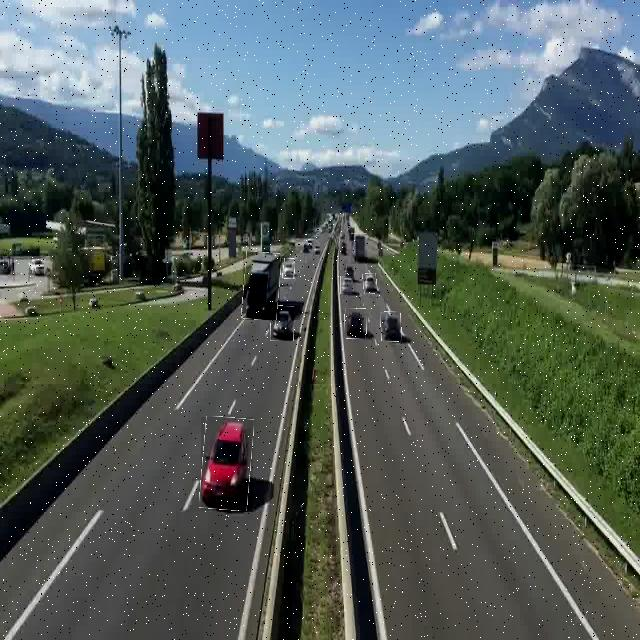Car: (201, 417, 253, 511), (271, 306, 294, 341), (345, 308, 367, 339), (381, 312, 402, 342), (362, 274, 377, 294), (282, 258, 295, 279), (340, 276, 353, 294)
Truck: (243, 251, 280, 320), (351, 233, 367, 264)
